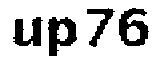6: (117, 7, 151, 50)
7: (83, 6, 116, 49)
p: (44, 13, 79, 60)
u: (7, 12, 43, 52)
